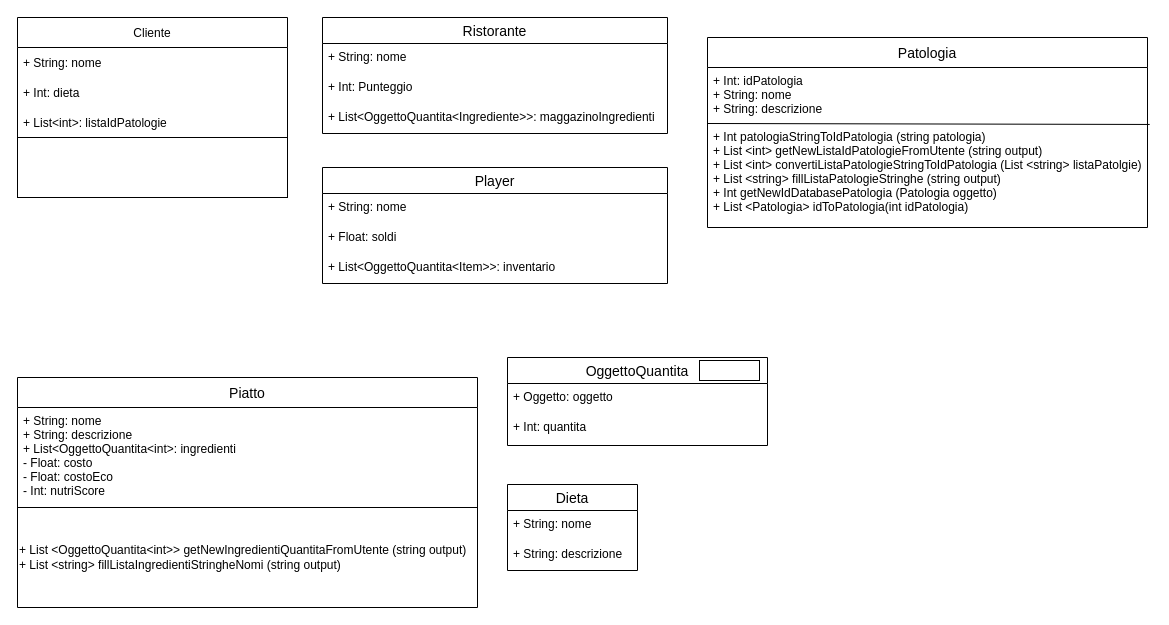
This 1169x625 diagram has some shape labels left out. Here are the shapes that lost their labels. From the top down, the centre of each, then its label:
At point (152, 167): "+ getNewNomeClienteFromUtente(String): String".
At point (729, 370): "Oggetto".
